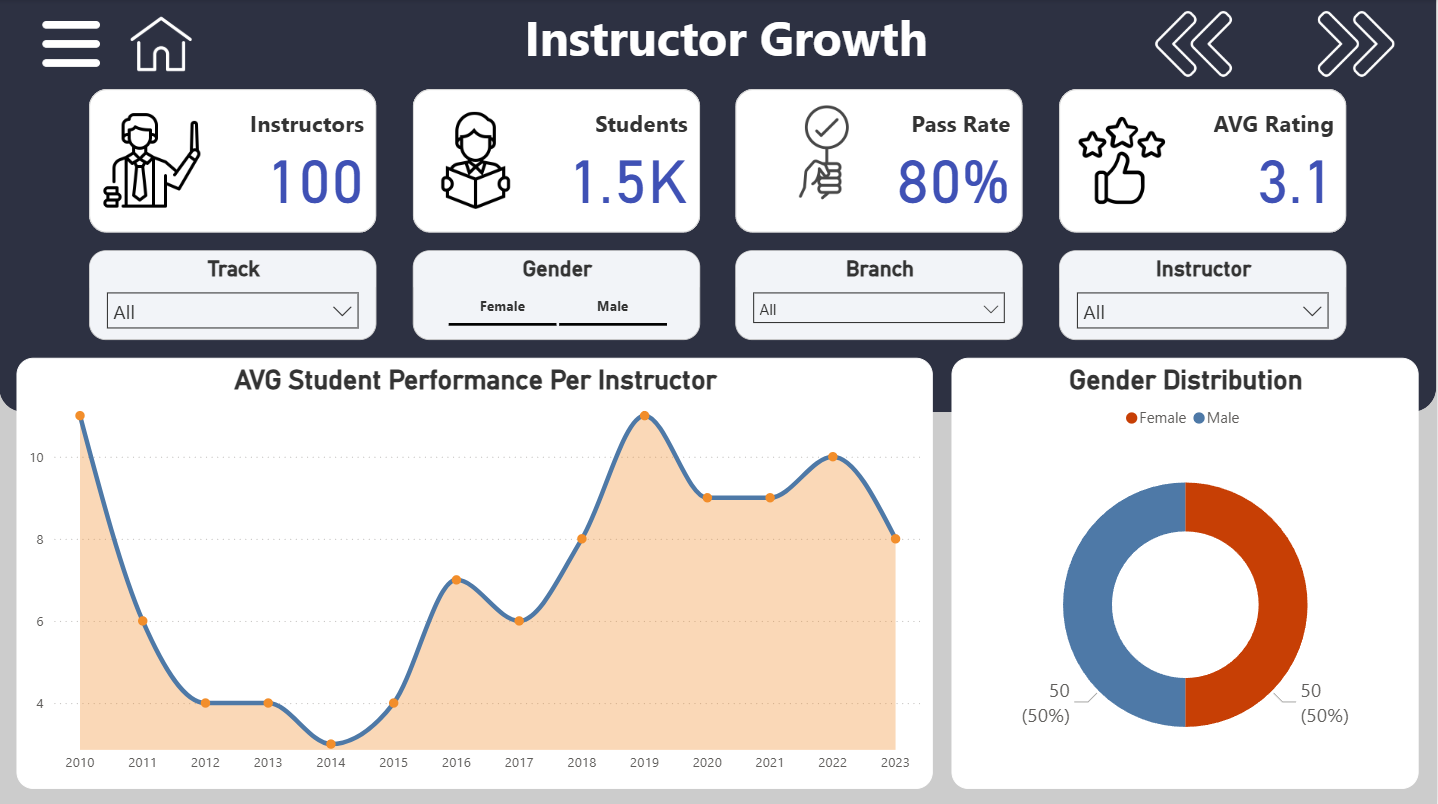

What the dashboard file says about the page in this screenshot:
{"tool":"powerbi","page":{"name":"08.Instructor  Growth","canvas":[1280,720],"ordinal":7},"visuals":[{"type":"shape","box":[0,0,1280,368],"z":0},{"type":"cardVisual","fields":{"Data":["Avg(Dim_Feedback.InstructorRating)"]},"box":[944,80,256,128],"z":1000},{"type":"cardVisual","fields":{"Data":["Dim_Instructor.Students_Per_Instructor"]},"box":[368,80,256,128],"z":2000},{"type":"areaChart","title":"AVG Student Performance Per Instructor","fields":{"Category":["DimDate.Date.Variation.Date Hierarchy.Year","DimDate.Date.Variation.Date Hierarchy.Month"],"Y":["Dim_Instructor.Registered Instructors Over Time"]},"box":[16,320,816,384],"z":3000},{"type":"slicer","title":"Track","fields":{"Values":["Dim_Track.Track_Name"]},"box":[80,224,256,80],"z":4000},{"type":"textbox","box":[448,0,400,80],"z":5000},{"type":"donutChart","title":"Gender Distribution","fields":{"Category":["Dim_Instructor.Instructor_Gender"],"Y":["Count(Dim_Instructor.Instructor_id_BK)"]},"box":[848,320,416,384],"z":6000},{"type":"cardVisual","fields":{"Data":["Count(Dim_Instructor.Instructor_id_BK)"]},"box":[80,80,256,128],"z":7000},{"type":"slicer","title":"Branch","fields":{"Values":["Dim_Branch.Branch_Name"]},"box":[656,224,256,80],"z":8000},{"type":"slicer","title":"Gender","fields":{"Values":["Dim_Instructor.Instructor_Gender"]},"box":[368,224,256,80],"z":9000},{"type":"slicer","title":"Instructor","fields":{"Values":["Dim_Instructor.Full_Name"]},"box":[944,224,256,80],"z":10000},{"type":"cardVisual","fields":{"Data":["Fact_Exam_Result.Pass_Rate"]},"box":[656,80,256,128],"z":11000},{"type":"image","box":[688,80,96,112],"z":12000},{"type":"image","box":[944,96,112,96],"z":13000},{"type":"image","box":[368,96,112,96],"z":14000},{"type":"image","box":[80,96,112,96],"z":15000},{"type":"image","box":[1136,0,144,80],"z":16000},{"type":"image","box":[992,0,144,80],"z":17000},{"type":"image","box":[32,0,64,80],"z":18000},{"type":"image","box":[112,0,64,80],"z":19000}]}

Visuals, with their boxes in screenshot pixels (x1, y1, x2, y2), scaled from the page's 1280x720 canvas onto the 1438x804 screenshot:
shape: l=0, t=0, r=1437, b=411
cardVisual - Avg(Dim_Feedback.InstructorRating): l=1061, t=89, r=1348, b=232
cardVisual - Dim_Instructor.Students_Per_Instructor: l=413, t=89, r=701, b=232
"AVG Student Performance Per Instructor" areaChart: l=18, t=357, r=935, b=786
"Track" slicer: l=90, t=250, r=377, b=339
textbox: l=503, t=0, r=953, b=89
"Gender Distribution" donutChart: l=953, t=357, r=1420, b=786
cardVisual - Count(Dim_Instructor.Instructor_id_BK): l=90, t=89, r=377, b=232
"Branch" slicer: l=737, t=250, r=1025, b=339
"Gender" slicer: l=413, t=250, r=701, b=339
"Instructor" slicer: l=1061, t=250, r=1348, b=339
cardVisual - Fact_Exam_Result.Pass_Rate: l=737, t=89, r=1025, b=232
image: l=773, t=89, r=881, b=214
image: l=1061, t=107, r=1186, b=214
image: l=413, t=107, r=539, b=214
image: l=90, t=107, r=216, b=214
image: l=1276, t=0, r=1437, b=89
image: l=1114, t=0, r=1276, b=89
image: l=36, t=0, r=108, b=89
image: l=126, t=0, r=198, b=89
